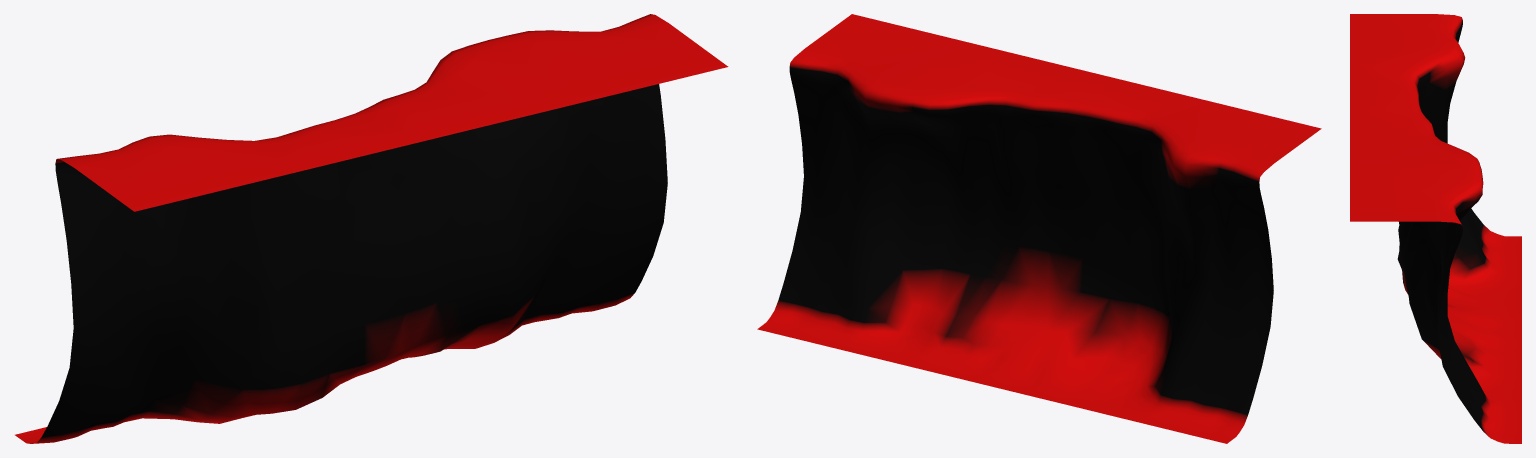
File: GroundCliff02B 2M Background.fbx
3 views of the same model, side by side, from view 1: azimuth 30°, elevation 25°; view 2: azimuth 150°, elevation 25°; view 3: azimuth 270°, elevation 25° (orthographic). The views are drawn at different scales.
Visible parts, largest first — view 1: GroundCliff02B 2M Background; view 2: GroundCliff02B 2M Background; view 3: GroundCliff02B 2M Background.
Boxes of the visible parts, x1,y1,x2,y2 form: GroundCliff02B 2M Background: (15,14,728,443); GroundCliff02B 2M Background: (757,14,1321,443); GroundCliff02B 2M Background: (1350,14,1521,443).
Size of the model in its own units: 4 by 2 by 1.4.
